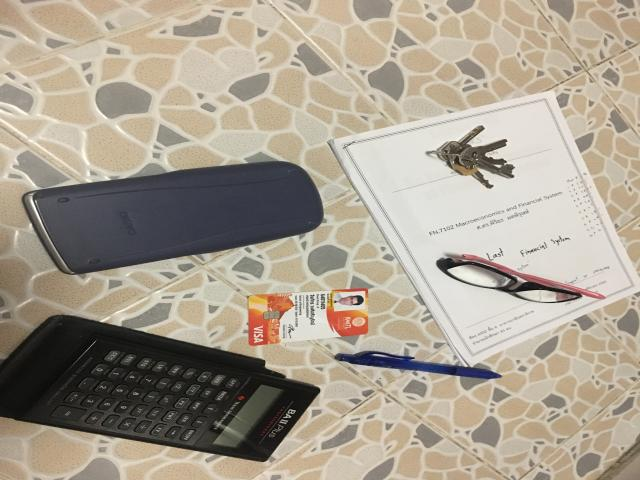Glasses: (437, 254, 605, 303)
Keys: (428, 126, 515, 188)
Pen: (335, 351, 502, 379)
paper: (328, 92, 638, 366)
